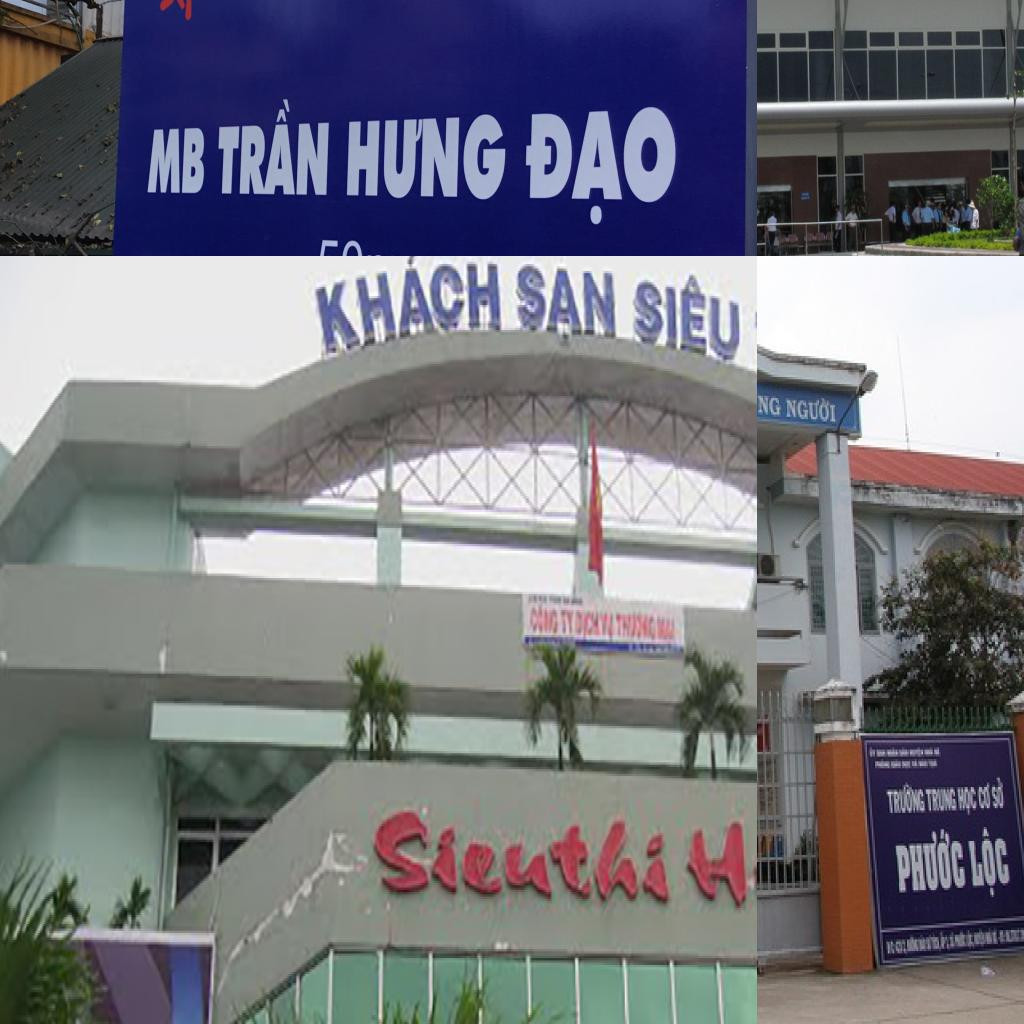text: (368, 790, 679, 917), (306, 256, 504, 368), (524, 103, 680, 227), (346, 112, 508, 202), (630, 256, 746, 375), (216, 98, 333, 201), (516, 256, 621, 350), (890, 827, 970, 902), (964, 825, 1016, 911), (145, 126, 207, 196), (782, 391, 843, 436), (883, 782, 929, 818), (617, 608, 657, 644), (929, 785, 960, 820), (757, 382, 782, 417), (575, 608, 601, 640), (960, 782, 979, 820), (527, 594, 584, 605), (992, 780, 1009, 815), (657, 614, 675, 646), (979, 778, 995, 813), (601, 608, 616, 644), (560, 608, 574, 637)
